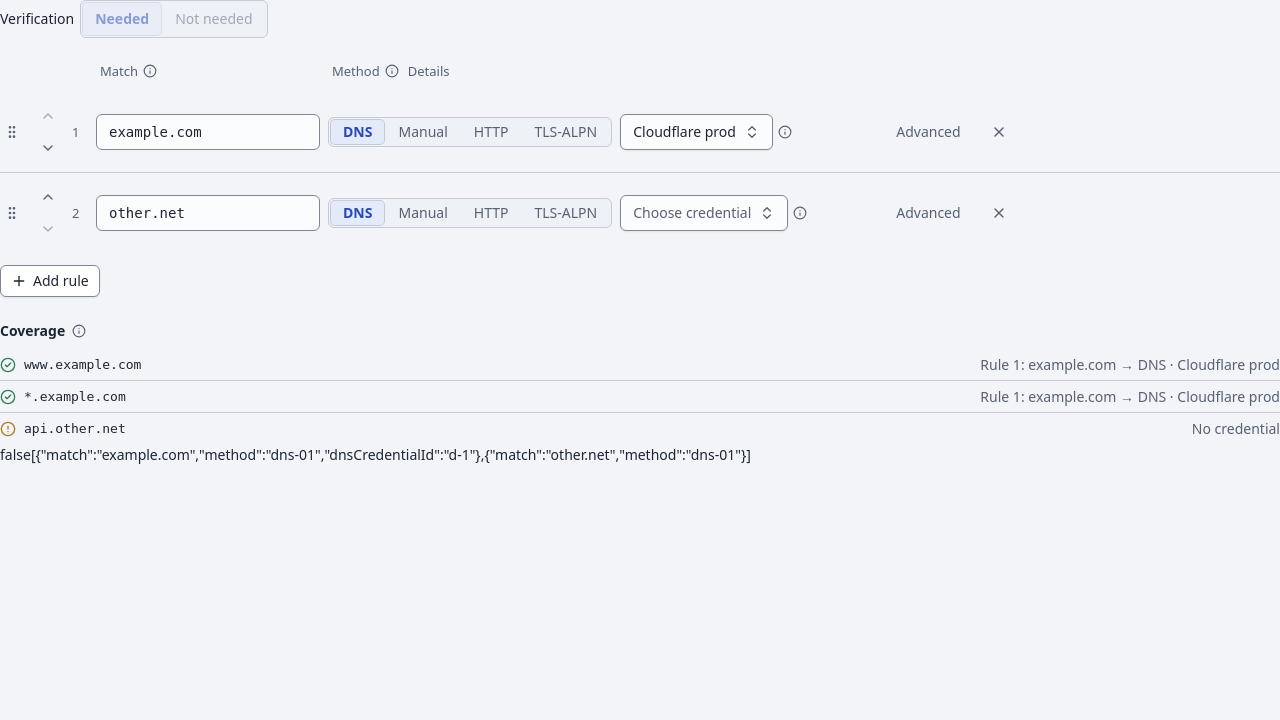
Test: only capable clients: a client without tls-alpn-01 is not offered on a TLS-ALPN row
The width and height of the screenshot is (1280, 720).
Expected: the field named "Rule 2 match" holds "other.net", [96,195,320,231]
Click the 2nd radio button labelled "TLS-ALPN". click: (566, 213)
box: [522,201,609,225]
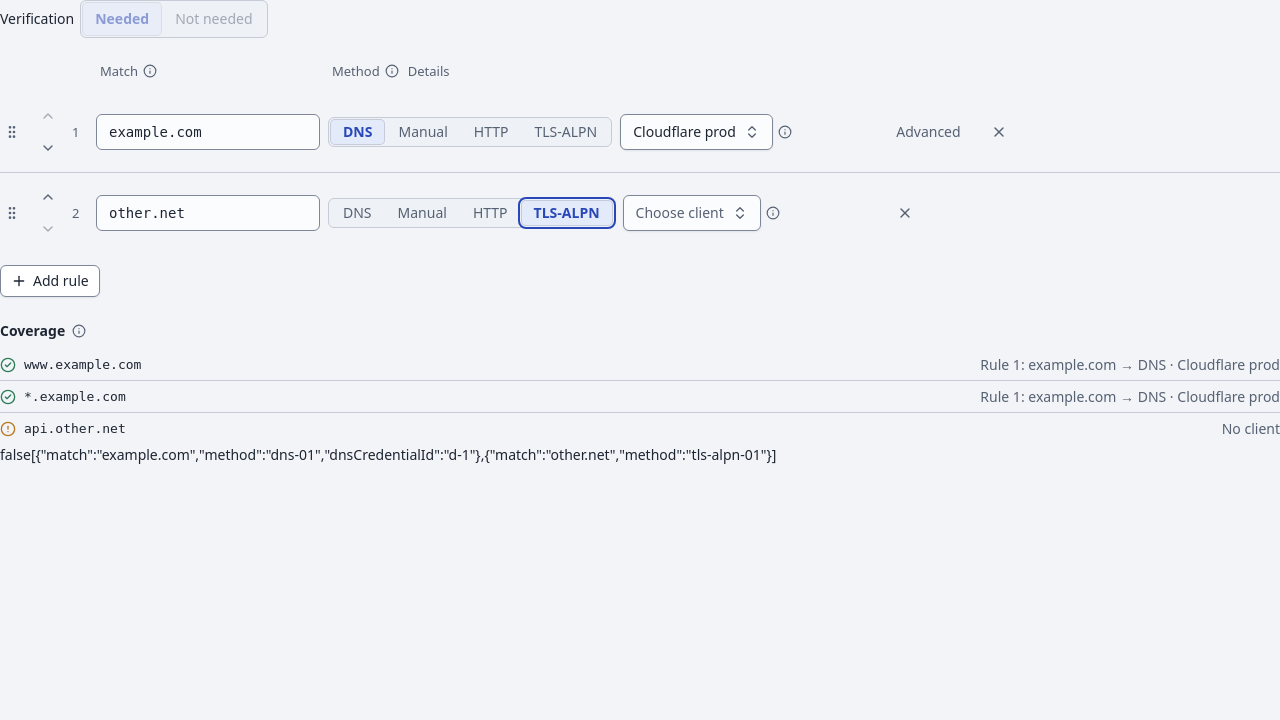
Click the dropdown named "Rule 2 client". click: (692, 213)
box: [623,195,761,231]
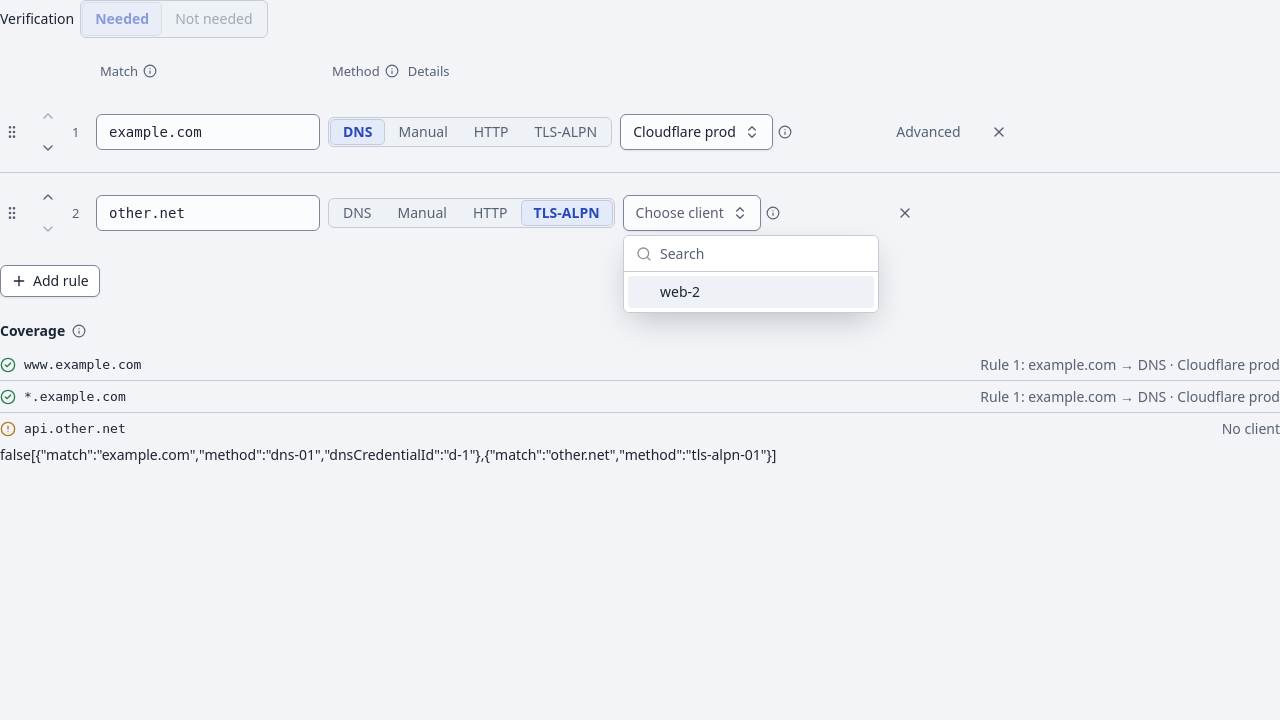
Result: the option "web-2" is shown at [628,276,874,308]
